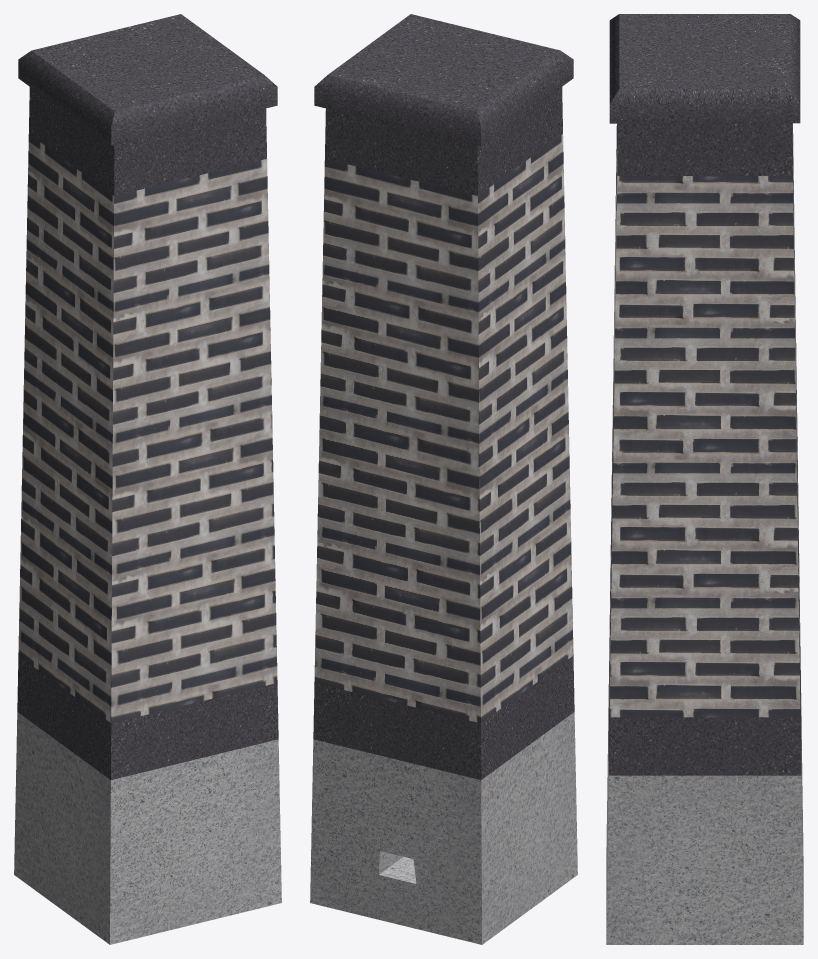
Rendered from SM_M_brickchimney_1_2.fbx.
3 renders of one model, left to right at view 1: azimuth 30°, elevation 25°; view 2: azimuth 150°, elevation 25°; view 3: azimuth 270°, elevation 25°, orthographic. The views are drawn at different scales.
Visible parts, largest first — view 1: SM_M_brickchimney_1_2; view 2: SM_M_brickchimney_1_2; view 3: SM_M_brickchimney_1_2.
Boxes of the visible parts, left/top/right/bottom form: SM_M_brickchimney_1_2: left=14, top=14, right=281, bottom=944; SM_M_brickchimney_1_2: left=310, top=14, right=577, bottom=944; SM_M_brickchimney_1_2: left=606, top=14, right=803, bottom=944.
Bounding box in the file's own units: 114 × 110 × 523.
3 materials, 3 textured.
